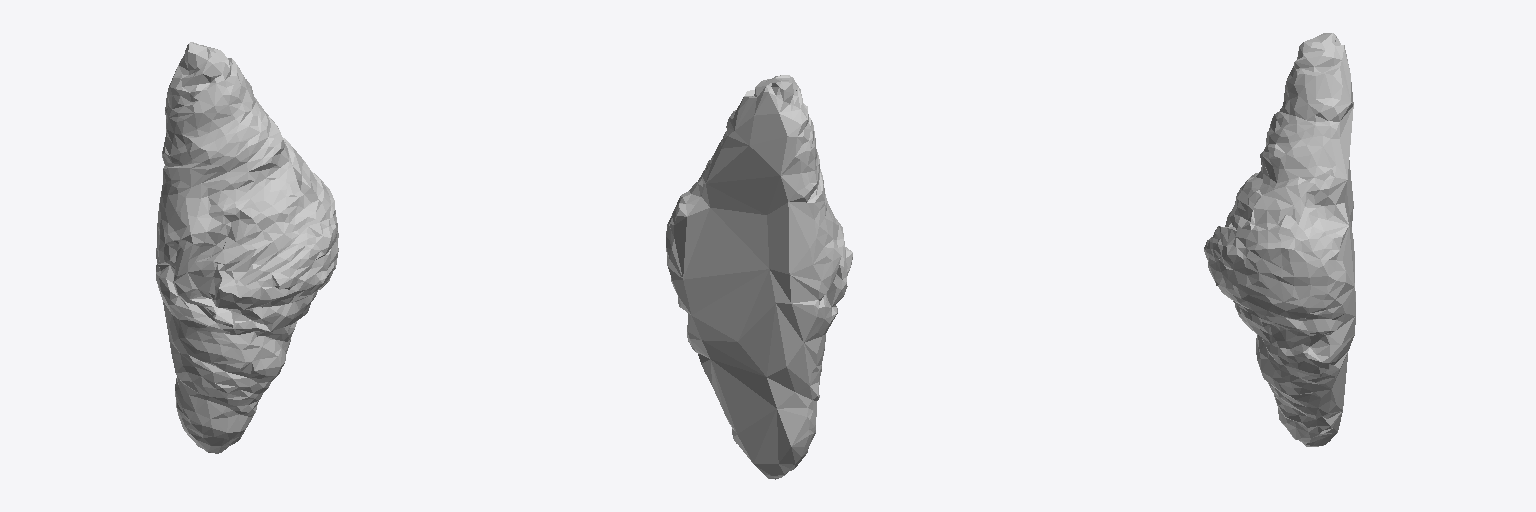
Rendered from croissant_02_L0.obj.
3 renders of one model, left to right at view 1: azimuth 30°, elevation 25°; view 2: azimuth 150°, elevation 25°; view 3: azimuth 270°, elevation 25°, orthographic.
Visible parts, largest first — view 1: croissant_02_L0; view 2: croissant_02_L0; view 3: croissant_02_L0.
Boxes of the visible parts, box(x1,y1,x2,y2) form: croissant_02_L0: box(156, 42, 338, 453); croissant_02_L0: box(666, 75, 852, 479); croissant_02_L0: box(1204, 33, 1355, 446).
Size of the model in its own units: 2.75 by 6.51 by 2.2.